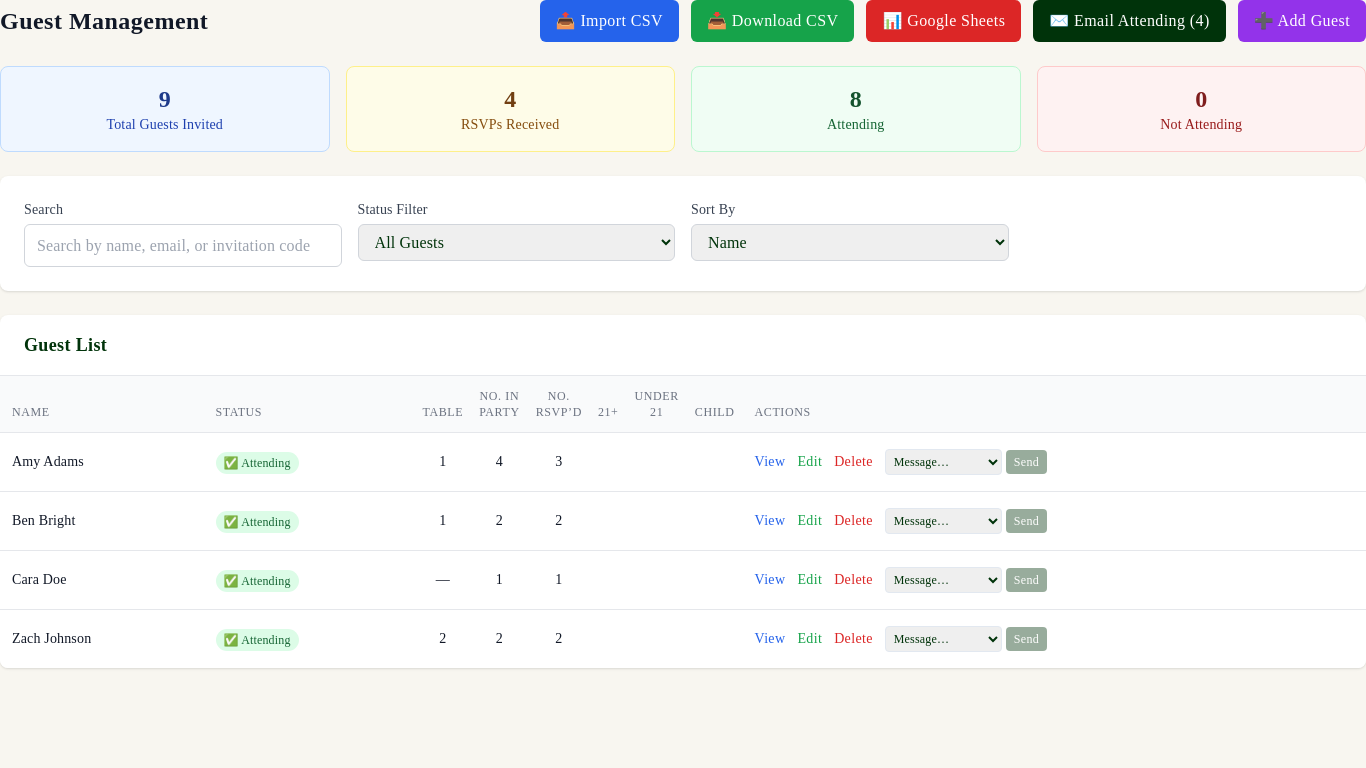
the View popup › shows the table number
The image size is (1366, 768).
Expected: the text "Amy Adams" is shown, x1=12 y1=454 x2=84 y2=469
Step 1. Click the button "View" in the row of "Amy Adams" → click(770, 462), box x1=754 y1=452 x2=785 y2=472
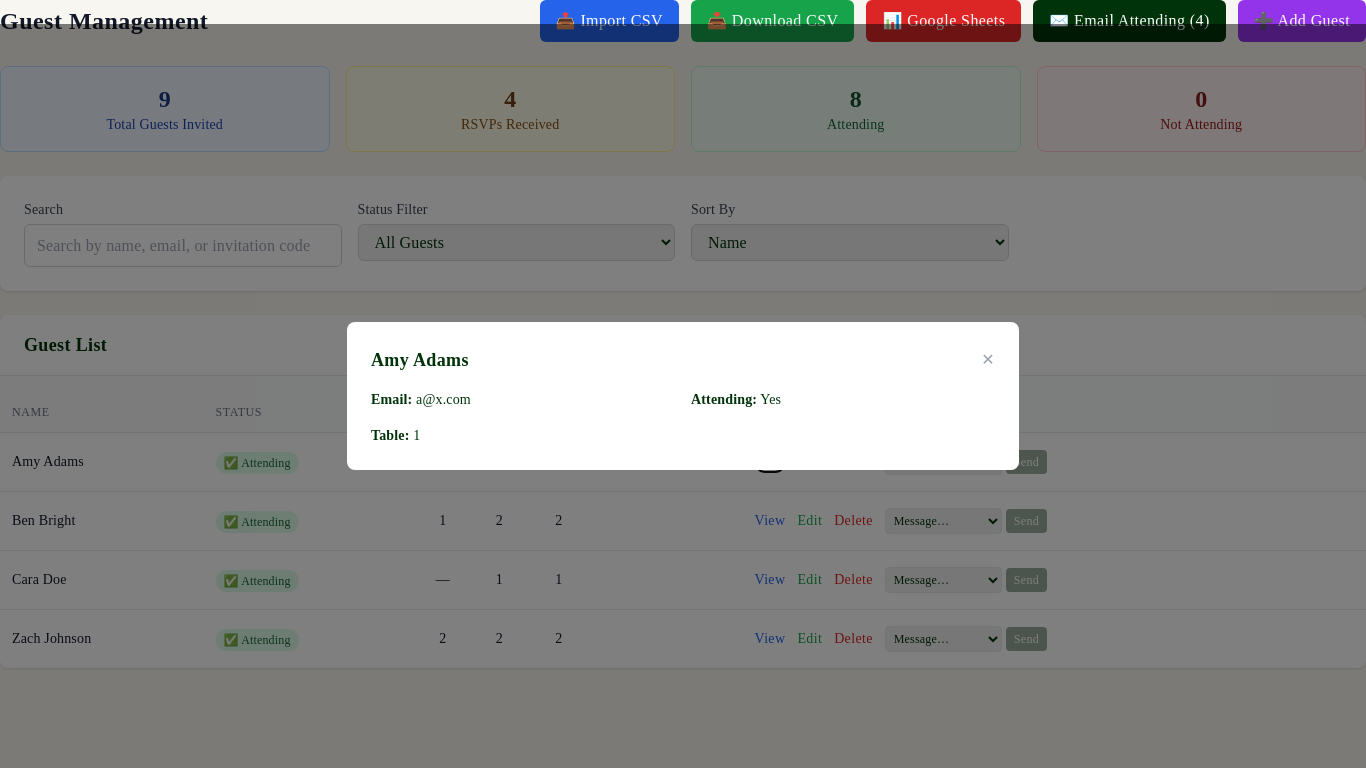
Expected: the heading "Amy Adams" is shown, x1=371 y1=346 x2=469 y2=374
